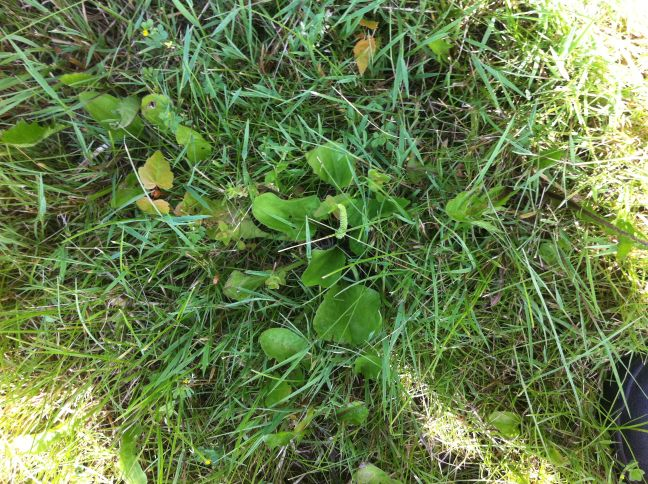weed1: (243, 136, 419, 294), (257, 284, 408, 419)
